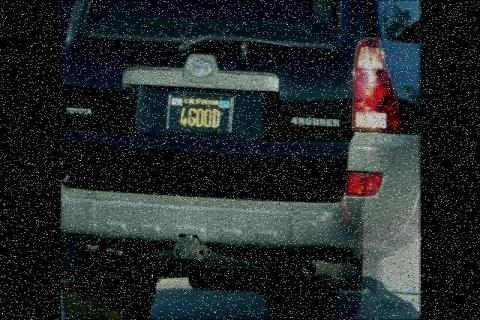LicensePlate: (168, 86, 232, 132)
